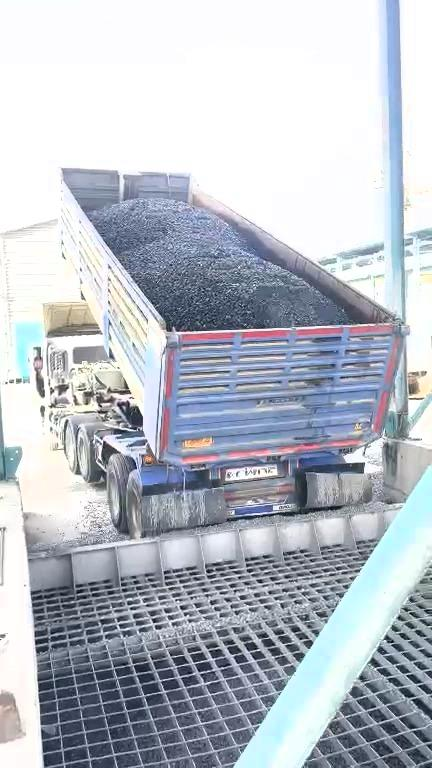gravel: (90, 198, 348, 330)
